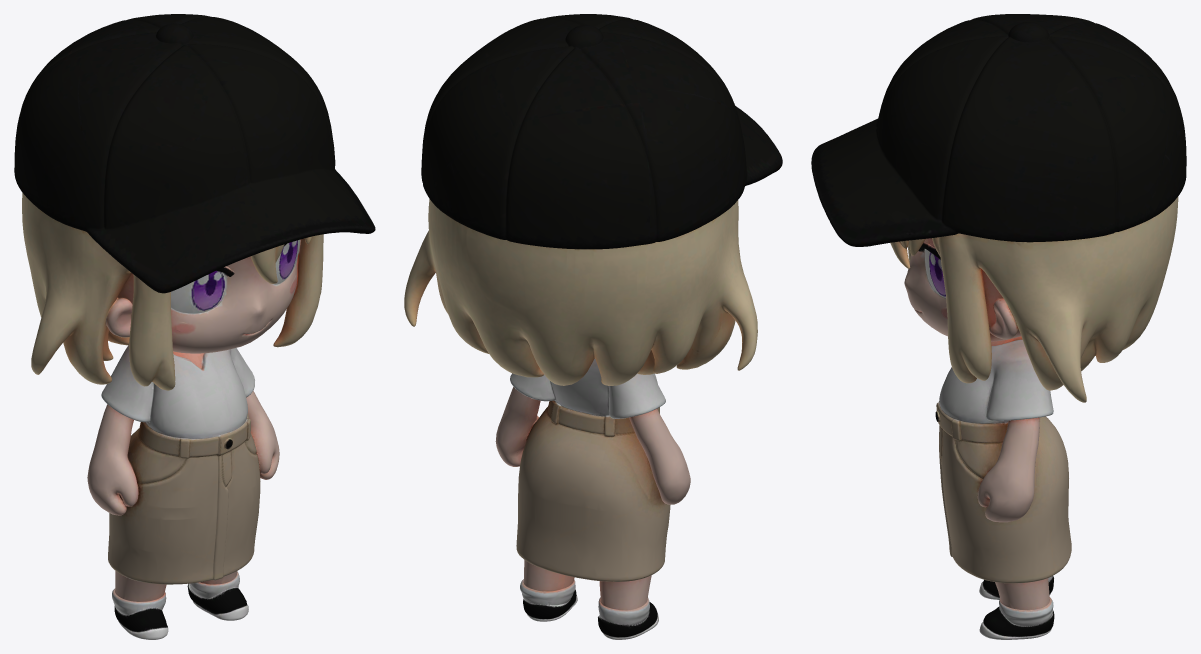
File: Uika.glb
3 views of the same model, side by side, from view 1: azimuth 30°, elevation 25°; view 2: azimuth 150°, elevation 25°; view 3: azimuth 270°, elevation 25° (orthographic).
Visible parts, largest first — view 1: Uika2; view 2: Uika2; view 3: Uika2.
Boxes of the visible parts, x1=… form: Uika2: x1=14, y1=14, x2=375, y2=639; Uika2: x1=404, y1=14, x2=782, y2=639; Uika2: x1=811, y1=14, x2=1186, y2=639.
Bounding box in the file's own units: 0.5397 × 0.9803 × 0.5659.
Materials: 1 (1 with a texture image).
